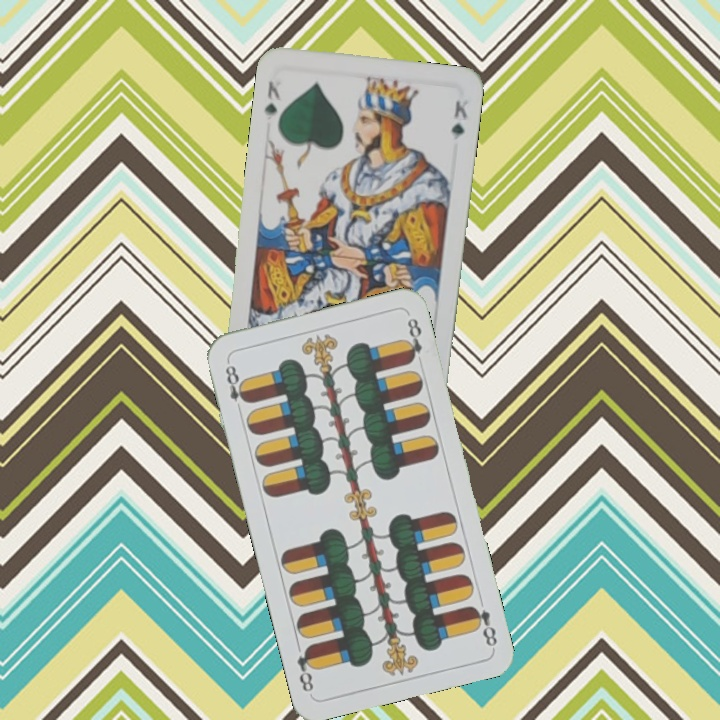E8: (221, 357, 251, 415), (466, 601, 500, 649)
GK: (260, 77, 284, 118)
